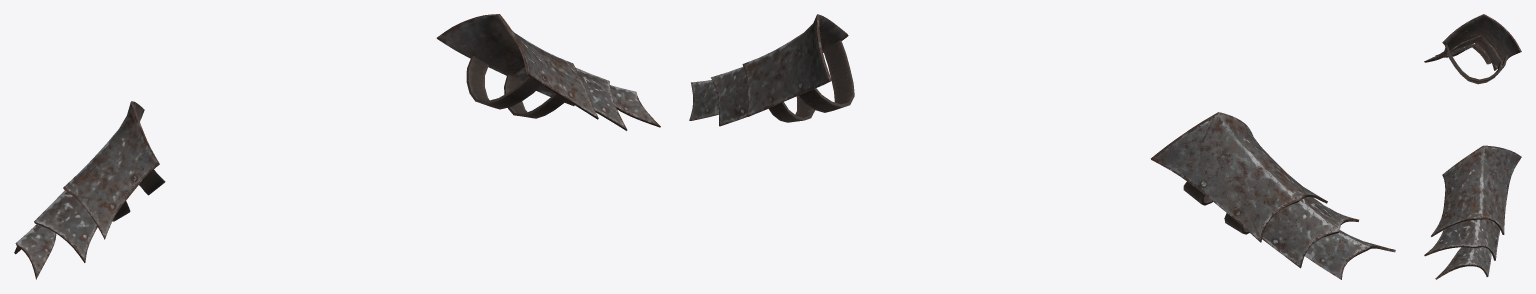
File: sk_gb_uruk_bracer_elite_b.fbx
3 views of the same model, side by side, from view 1: azimuth 30°, elevation 25°; view 2: azimuth 150°, elevation 25°; view 3: azimuth 270°, elevation 25° (orthographic). The views are drawn at different scales.
Parts seen in each view (by area): view 1: sk_gb_uruk_bracer_elite_b; view 2: sk_gb_uruk_bracer_elite_b; view 3: sk_gb_uruk_bracer_elite_b.
Boxes of the visible parts, x1,y1,x2,y2 form: sk_gb_uruk_bracer_elite_b: (14, 14, 660, 279); sk_gb_uruk_bracer_elite_b: (689, 14, 1395, 279); sk_gb_uruk_bracer_elite_b: (1424, 14, 1521, 279).
Bounding box in the file's own units: 1.53 × 0.2832 × 0.2906.
1 material, 1 textured.
